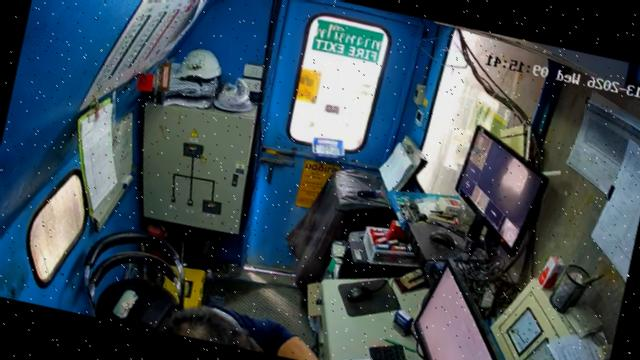Head: (157, 307, 262, 351)
People: (158, 306, 316, 359)
Phone: (138, 297, 172, 328), (124, 295, 152, 322)
